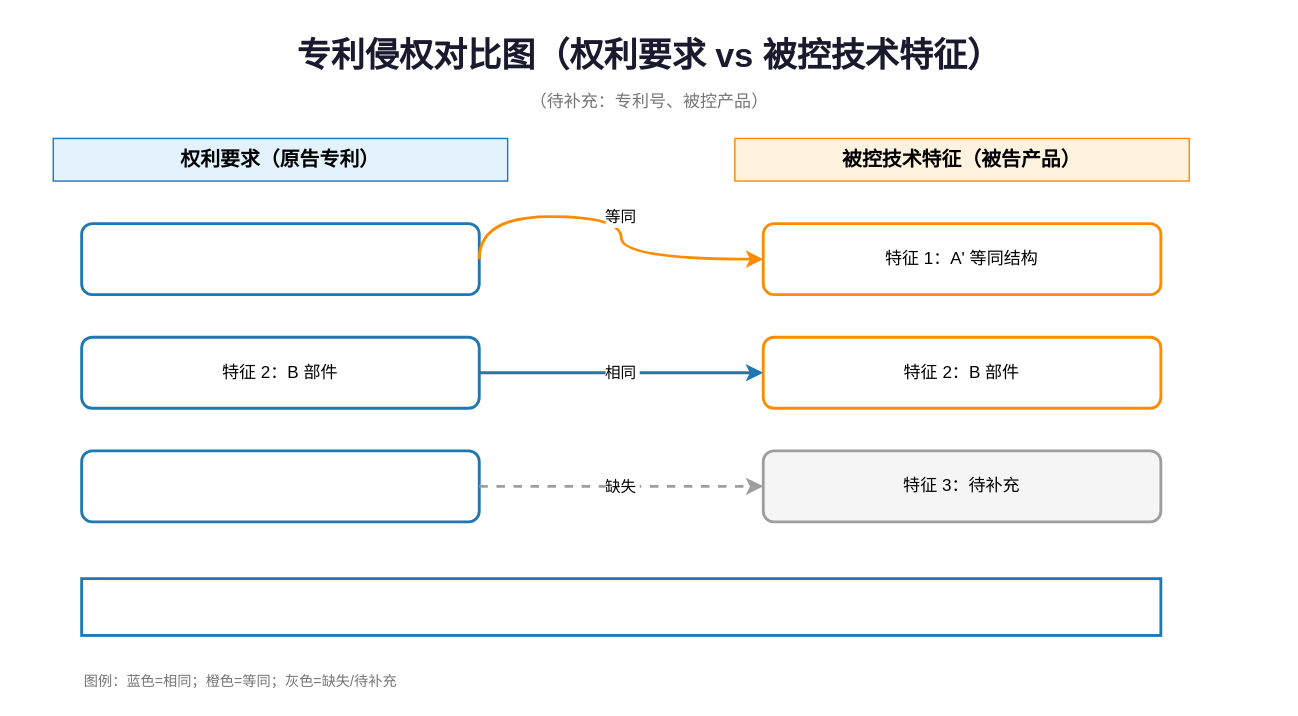
Some shapes in this 1298 by 716 pixel diagram are drawn without their labels. The shapes that lost their labels are listed below. From the top down, each one's centre as x and y in pixels, then its label:
the point at 280,258: 特征 1：A 结构
the point at 280,486: 特征 3：C 连接方式
the point at 621,606: 结论栏：特征 1 等同侵权，特征 2 相同侵权，特征 3 待补充
